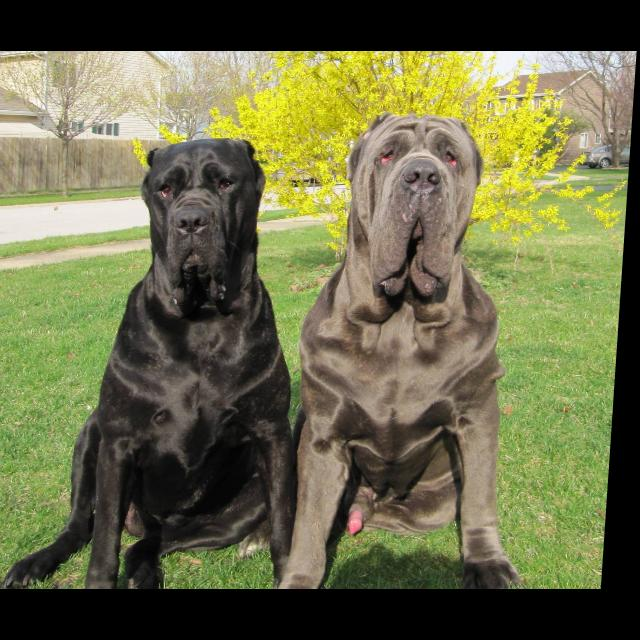mastino_napoletano: (12, 138, 324, 590), (285, 112, 559, 590)
